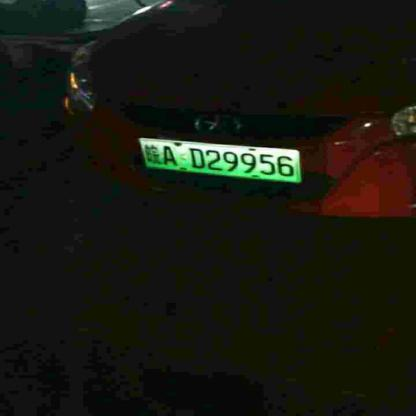lp: (139, 139, 300, 181)
